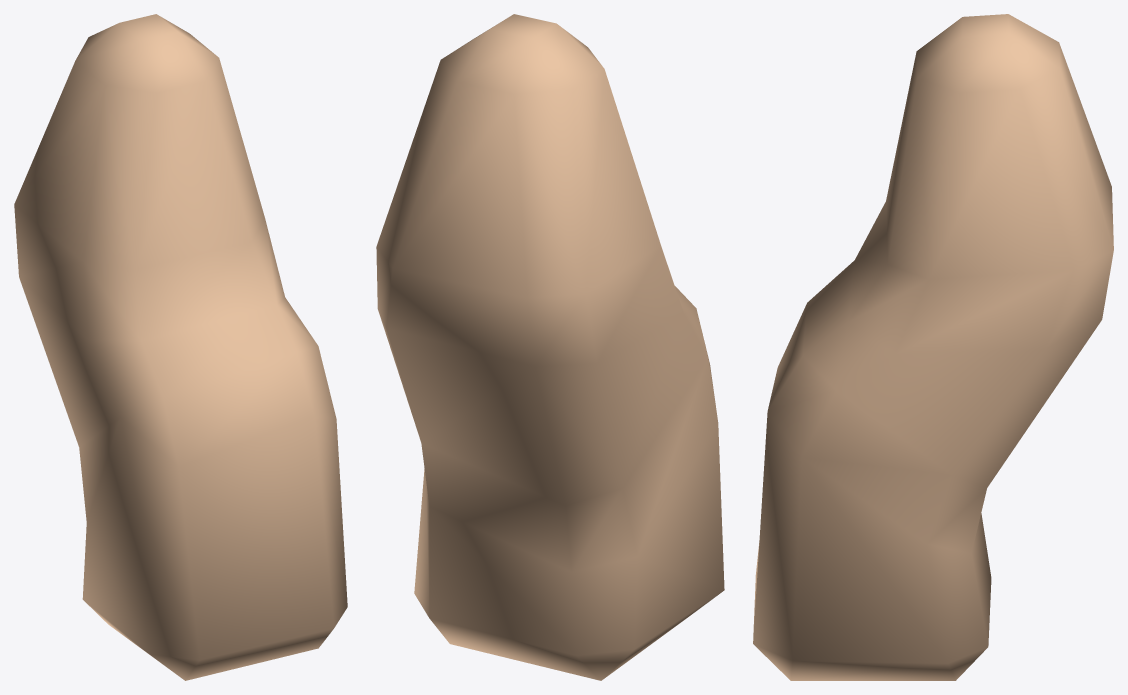
File: Pillar.fbx
3 views of the same model, side by side, from view 1: azimuth 30°, elevation 25°; view 2: azimuth 150°, elevation 25°; view 3: azimuth 270°, elevation 25° (orthographic). The views are drawn at different scales.
Visible parts, largest first — view 1: Cube.002; view 2: Cube.002; view 3: Cube.002.
Boxes of the visible parts, <box> form: Cube.002: <box>14,14,347,680</box>; Cube.002: <box>376,14,724,680</box>; Cube.002: <box>753,14,1113,680</box>.
Size of the model in its own units: 432 by 1096 by 582.
